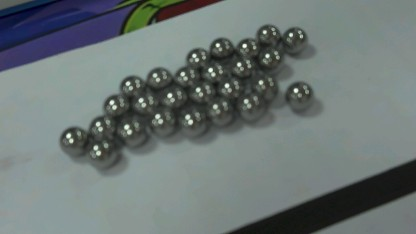ironball: (281, 76, 312, 112), (116, 116, 145, 146), (179, 104, 205, 137), (86, 139, 114, 167), (251, 18, 280, 45), (146, 109, 173, 138), (279, 24, 305, 53), (142, 64, 176, 86), (206, 100, 230, 130), (111, 71, 143, 92), (208, 34, 235, 57), (255, 42, 280, 66), (253, 72, 277, 97), (185, 80, 215, 100), (59, 126, 86, 148), (234, 32, 258, 56), (227, 55, 259, 73), (217, 75, 243, 97), (131, 89, 156, 110), (161, 85, 182, 109), (182, 46, 210, 63), (239, 95, 262, 115), (90, 114, 113, 134), (102, 94, 129, 111), (203, 61, 224, 81), (174, 65, 192, 81)
